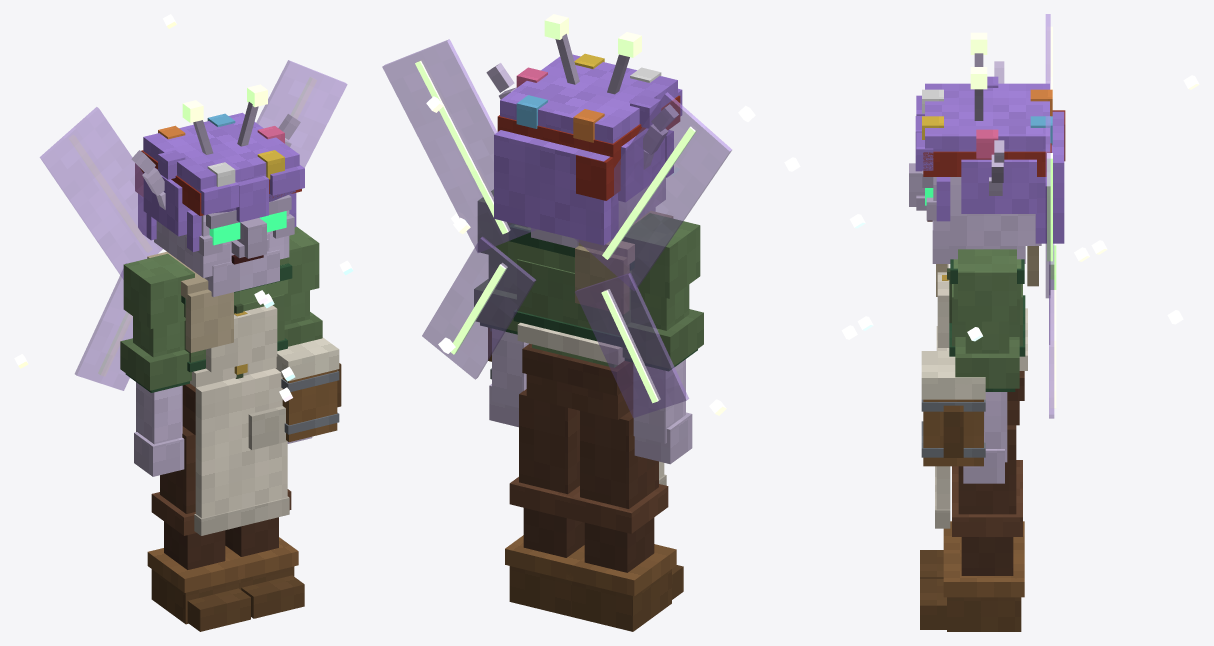
File: fairy_aubergiste_v3.glb
3 views of the same model, side by side, from view 1: azimuth 30°, elevation 25°; view 2: azimuth 150°, elevation 25°; view 3: azimuth 270°, elevation 25° (orthographic). The views are drawn at different scales.
Visible parts, largest first — view 1: Torso, Head, ArmR, LegR, LegL, HandL, ArmL; view 2: Torso, Head, LegR, ArmR, LegL, ArmL; view 3: Head, LegL, ArmL, Torso, HandL, LegR.
Part boxes in pixels (x1=…): Torso: x1=14, y1=14, x2=353, y2=535; Head: x1=131, y1=84, x2=304, y2=297; ArmR: x1=120, y1=253, x2=194, y2=476; LegR: x1=147, y1=426, x2=250, y2=631; LegL: x1=225, y1=489, x2=304, y2=618; HandL: x1=275, y1=337, x2=341, y2=442; ArmL: x1=280, y1=226, x2=322, y2=443; Torso: x1=382, y1=39, x2=755, y2=485; Head: x1=486, y1=14, x2=682, y2=247; LegR: x1=565, y1=409, x2=683, y2=631; ArmR: x1=622, y1=213, x2=703, y2=464; LegL: x1=505, y1=389, x2=584, y2=616; ArmL: x1=474, y1=189, x2=528, y2=427; Head: x1=909, y1=32, x2=1065, y2=263; LegL: x1=920, y1=425, x2=1024, y2=631; ArmL: x1=955, y1=249, x2=1019, y2=483; Torso: x1=784, y1=14, x2=1199, y2=528; HandL: x1=921, y1=351, x2=985, y2=466; LegR: x1=920, y1=460, x2=1024, y2=578.
Size of the model in its own units: 0.7287 by 1.11 by 0.7622.
Materials: 45 (45 with a texture image).
